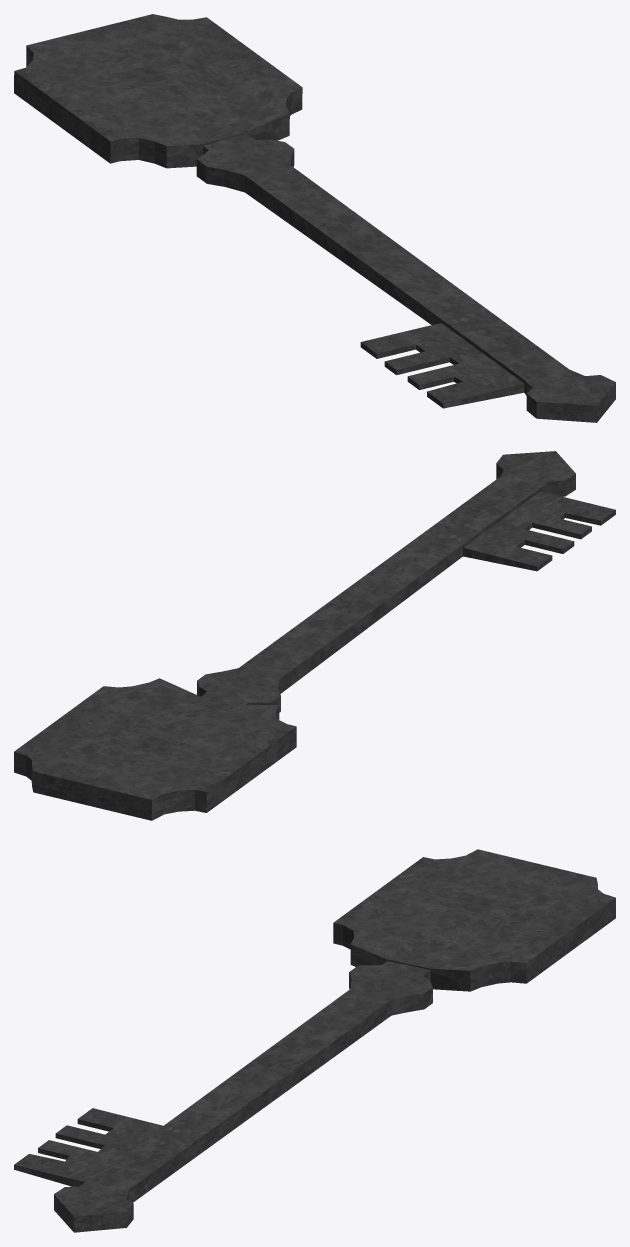
The model's file is key2.fbx.
The picture shows the model from 3 angles, top to bottom: view 1: azimuth 30°, elevation 25°; view 2: azimuth 150°, elevation 25°; view 3: azimuth 330°, elevation 25°; orthographic projection. The views are drawn at different scales.
Parts seen in each view (by area): view 1: Empty.001; view 2: Empty.001; view 3: Empty.001.
Part boxes in pixels (x1,y1,x2,y2): Empty.001: (14, 14, 615, 422); Empty.001: (14, 451, 615, 820); Empty.001: (14, 849, 615, 1232).
Bounding box in the file's own units: 15.15 × 2.16 × 64.22.
